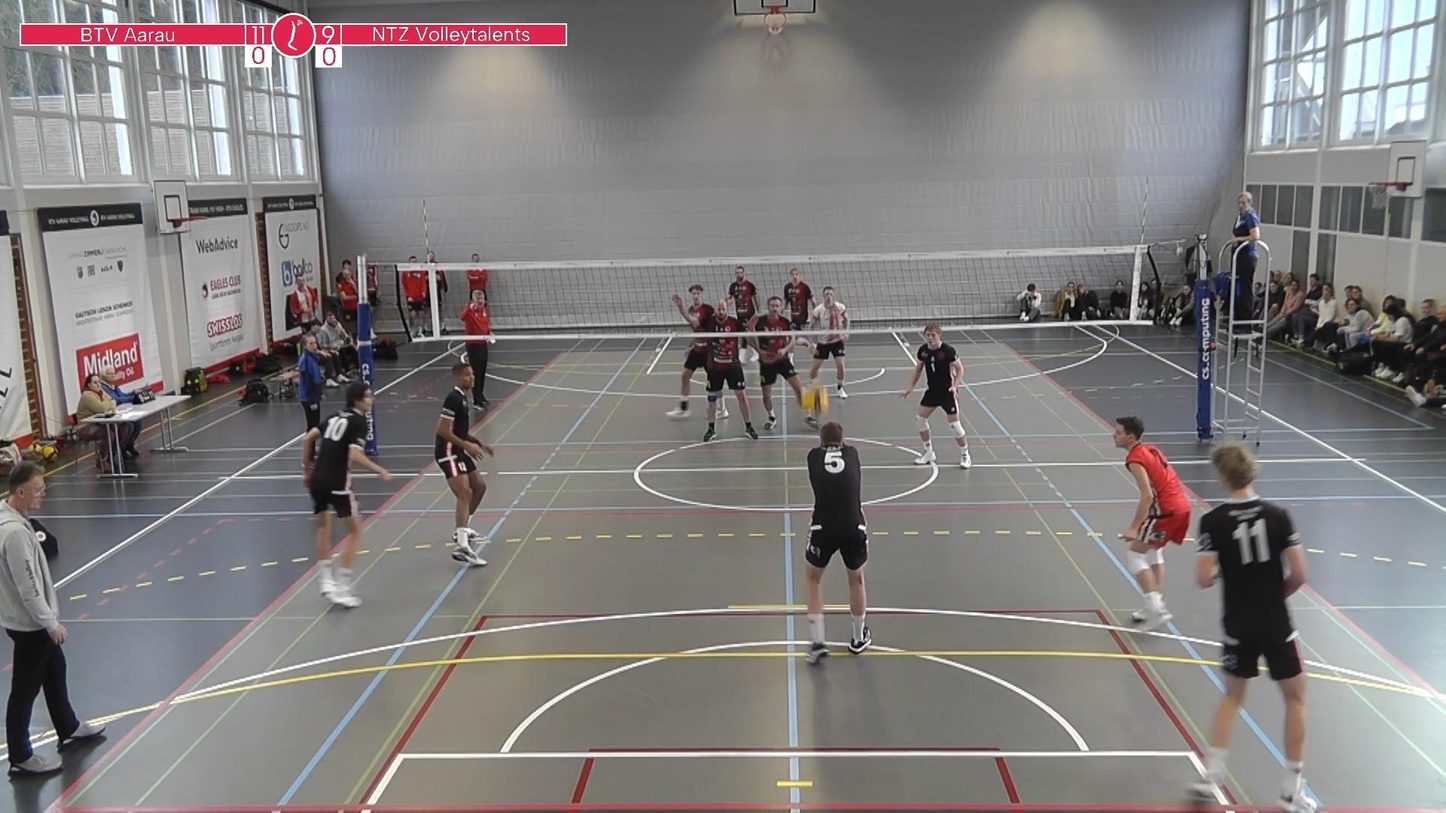Player: (1194, 444, 1316, 812), (302, 382, 389, 607), (1113, 416, 1191, 629), (435, 362, 494, 565), (901, 324, 971, 468), (749, 297, 818, 429), (703, 335, 758, 441), (810, 286, 850, 398), (667, 338, 709, 419), (784, 268, 814, 330), (728, 266, 757, 323)
Receive: (789, 423, 885, 668)
ball: (800, 384, 834, 422)
